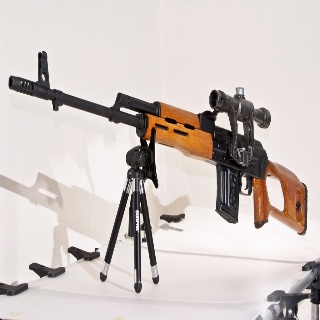rifle: (6, 49, 308, 291)
